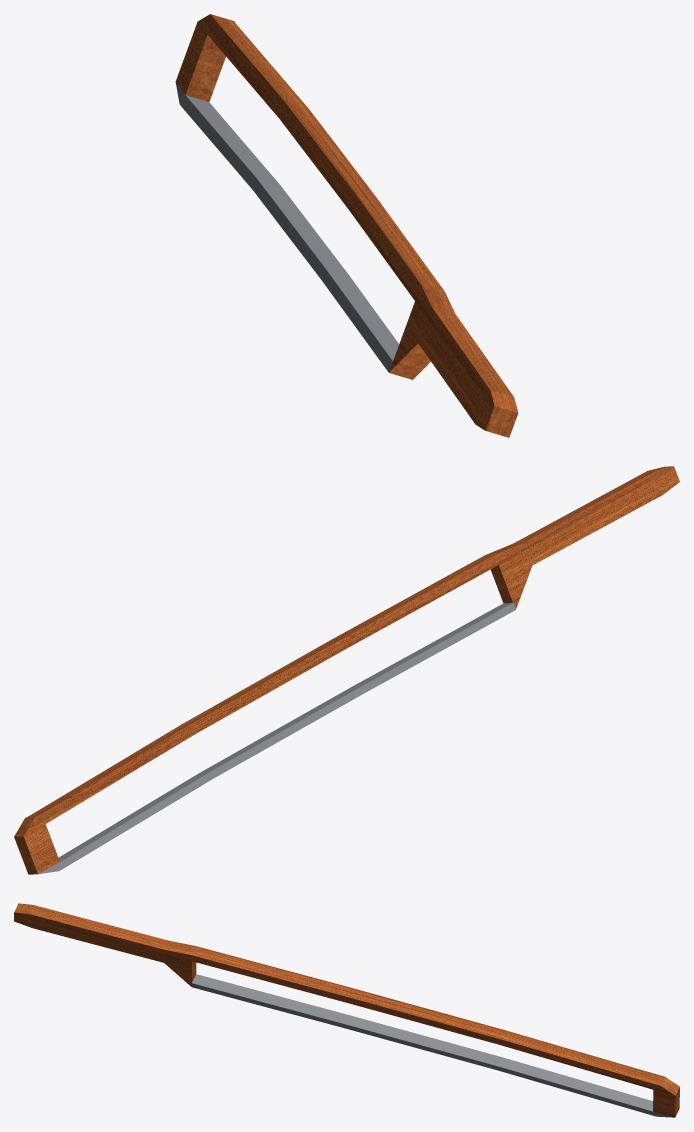
Rendered from Violin Bow.fbx.
The picture shows the model from 3 angles, top to bottom: view 1: azimuth 30°, elevation 25°; view 2: azimuth 150°, elevation 25°; view 3: azimuth 270°, elevation 25°; orthographic projection. The views are drawn at different scales.
Parts seen in each view (by area): view 1: pCube4476; view 2: pCube4476; view 3: pCube4476.
Part boxes in pixels (x1,y1,x2,y2): pCube4476: [175, 14, 518, 437]; pCube4476: [14, 466, 679, 874]; pCube4476: [14, 903, 679, 1117].
Bounding box in the file's own units: 0.1918 × 0.1208 × 0.5621.
1 material, 1 textured.
